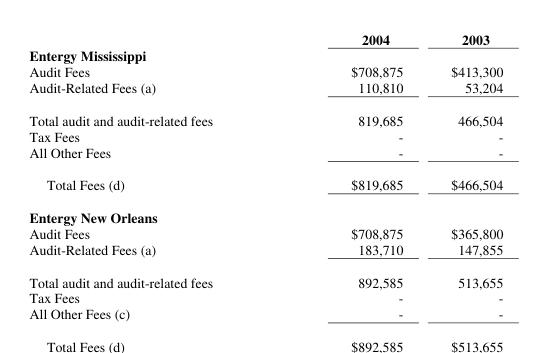table: (28, 29, 502, 322)
table column: (28, 29, 281, 322), (281, 29, 426, 322), (426, 29, 502, 322)
table column header: (28, 29, 502, 47)
table projected row header: (28, 200, 502, 225), (28, 47, 502, 63)
table row: (28, 167, 502, 200), (28, 78, 502, 103), (28, 200, 502, 225), (28, 264, 502, 289), (28, 103, 502, 127), (28, 143, 502, 167), (28, 240, 502, 264), (28, 29, 502, 47), (28, 305, 502, 322), (28, 47, 502, 63), (28, 127, 502, 143), (28, 289, 502, 305), (28, 63, 502, 78), (28, 225, 502, 240)
